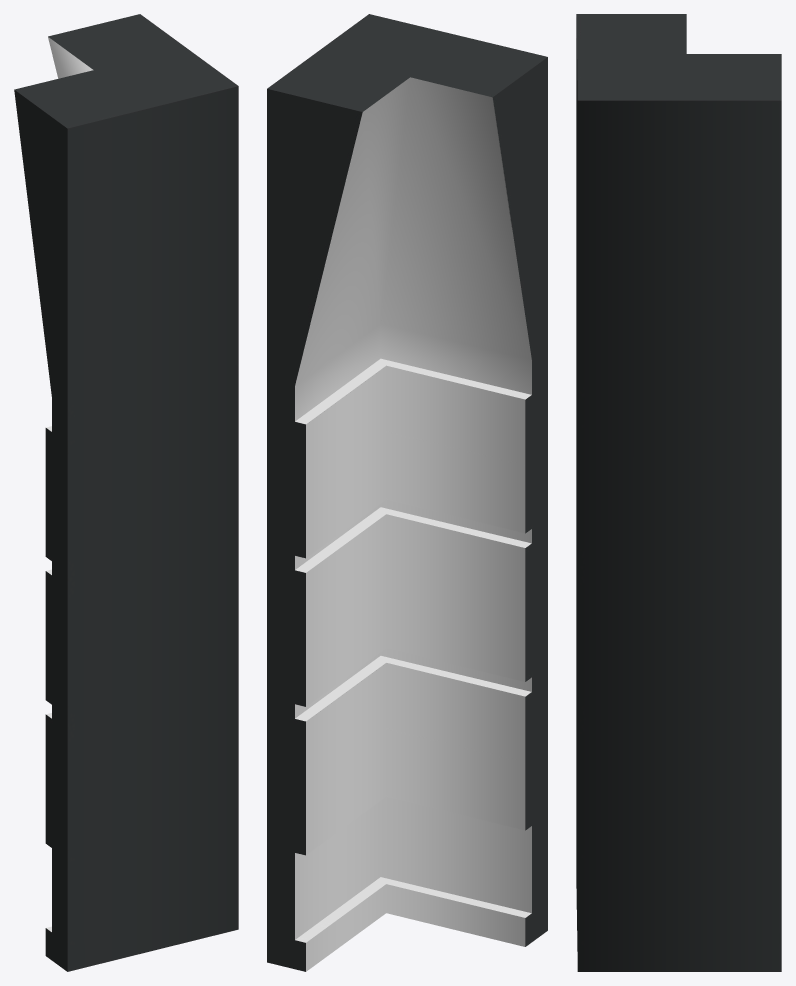
The model's file is Interior_Wall_Concave.FBX.
3 views of the same model, side by side, from view 1: azimuth 30°, elevation 25°; view 2: azimuth 150°, elevation 25°; view 3: azimuth 270°, elevation 25° (orthographic). The views are drawn at different scales.
Visible parts, largest first — view 1: Box003; view 2: Box003; view 3: Box003.
Part boxes in pixels (bbox=[...]): Box003: bbox=[14, 14, 238, 971]; Box003: bbox=[267, 14, 547, 971]; Box003: bbox=[576, 14, 781, 971].
Size of the model in its own units: 25.2 by 118 by 25.2.
Materials: 1 (1 with a texture image).
